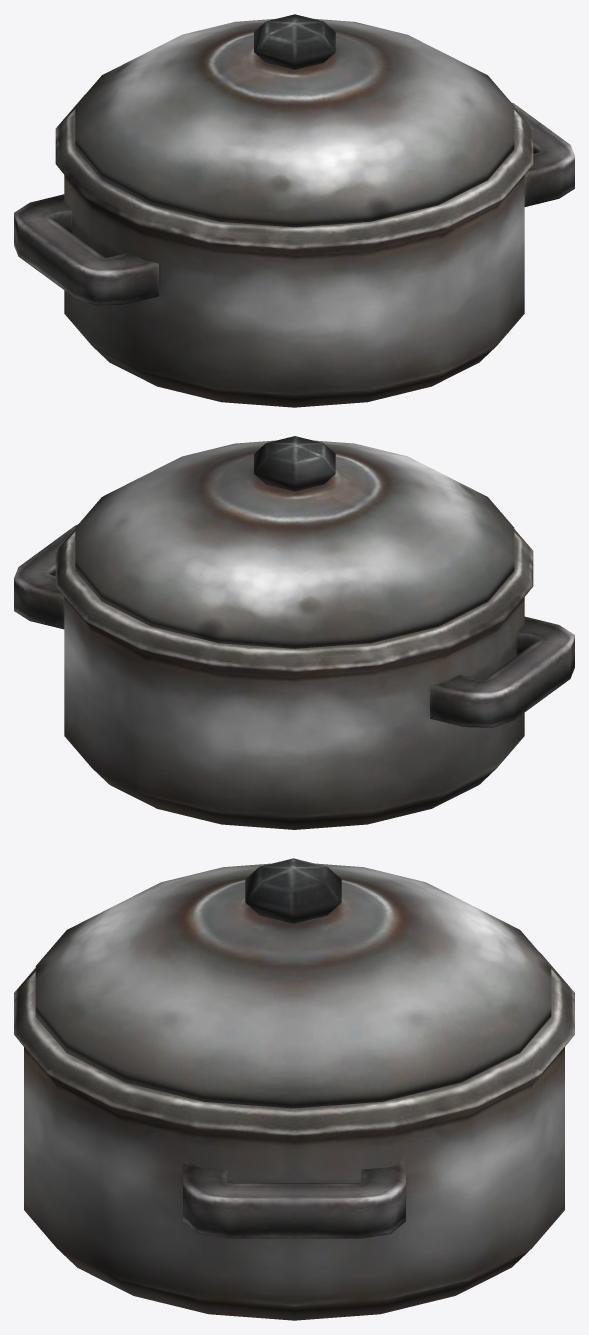
Rendered from SM_Pan_00.gltf.
3 renders of one model, top to bottom at view 1: azimuth 30°, elevation 25°; view 2: azimuth 150°, elevation 25°; view 3: azimuth 270°, elevation 25°, orthographic. The views are drawn at different scales.
Visible parts, largest first — view 1: SM_Pan_00; view 2: SM_Pan_00; view 3: SM_Pan_00.
Boxes of the visible parts, bbox=[...] form: SM_Pan_00: bbox=[14, 14, 574, 407]; SM_Pan_00: bbox=[14, 436, 574, 829]; SM_Pan_00: bbox=[14, 858, 574, 1320].
Size of the model in its own units: 0.481 by 0.2738 by 0.4019.
1 material, 1 textured.
